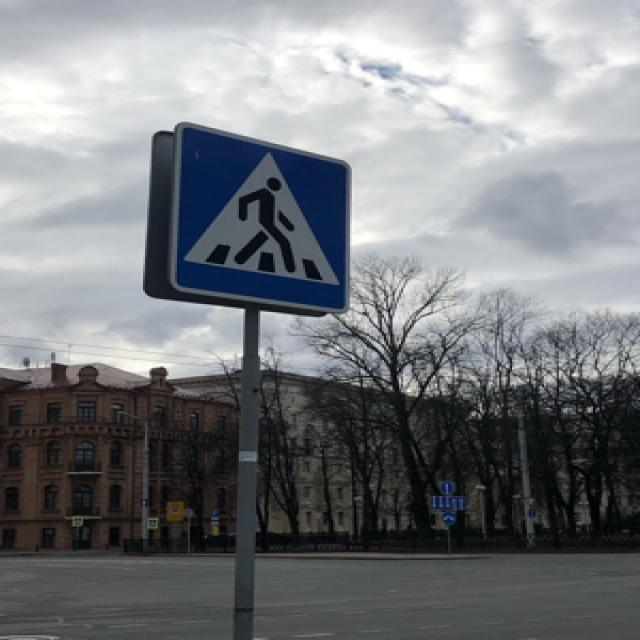crosswalk_sign: (170, 119, 356, 318)
